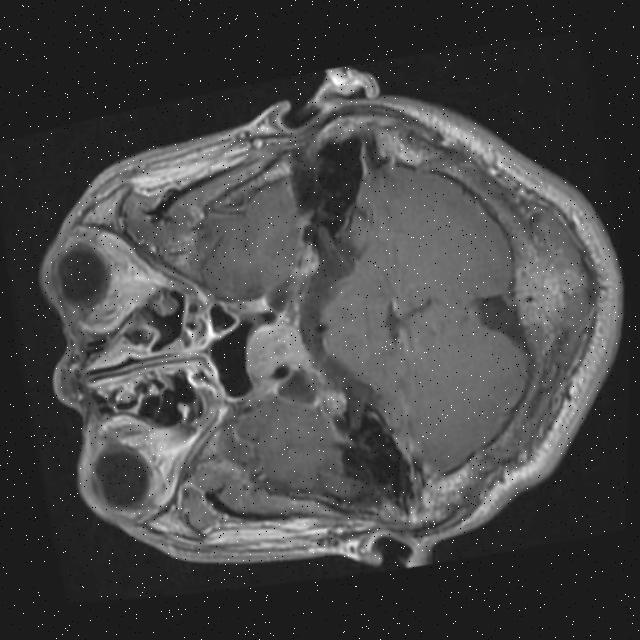Pituitary: (237, 316, 310, 383)
